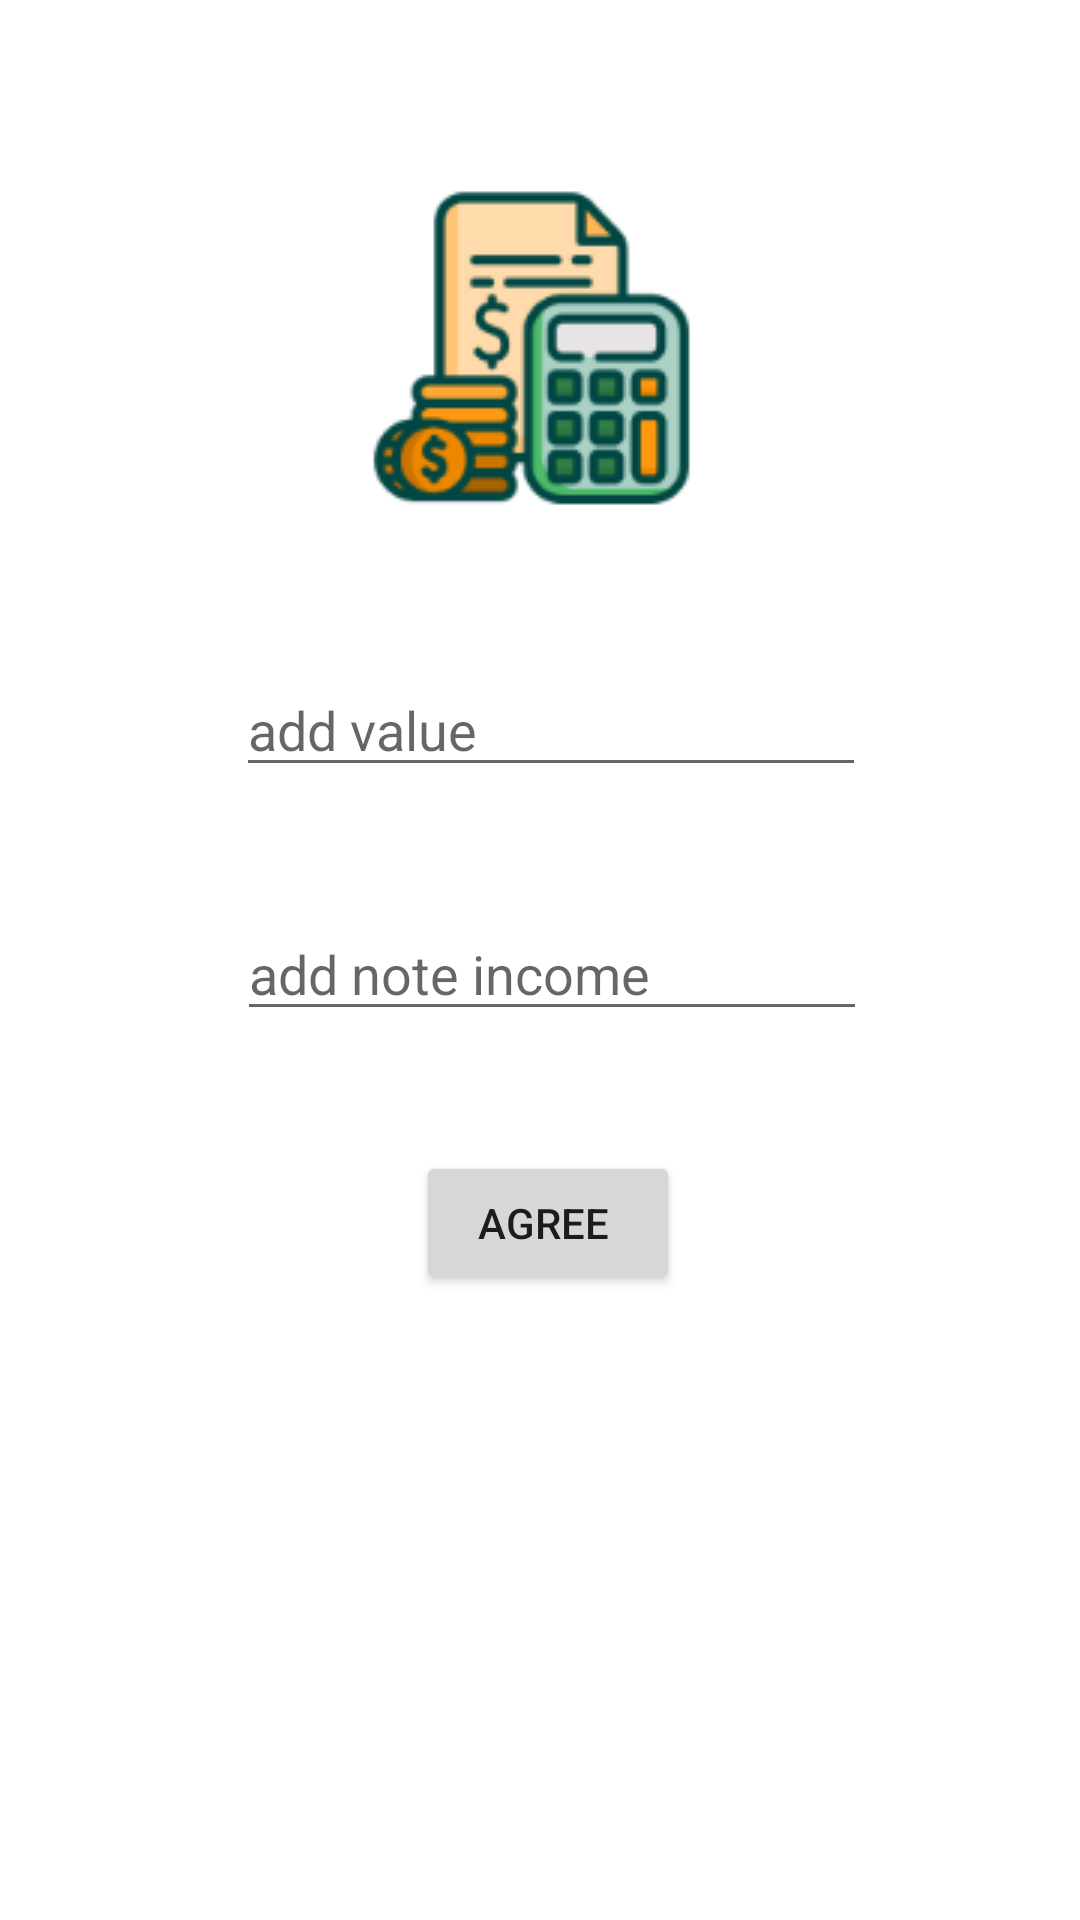

Where icons sit on this 1080×1920 app screen, as (x1, y1, x2, y2):
safecash: (373, 191, 690, 505)
